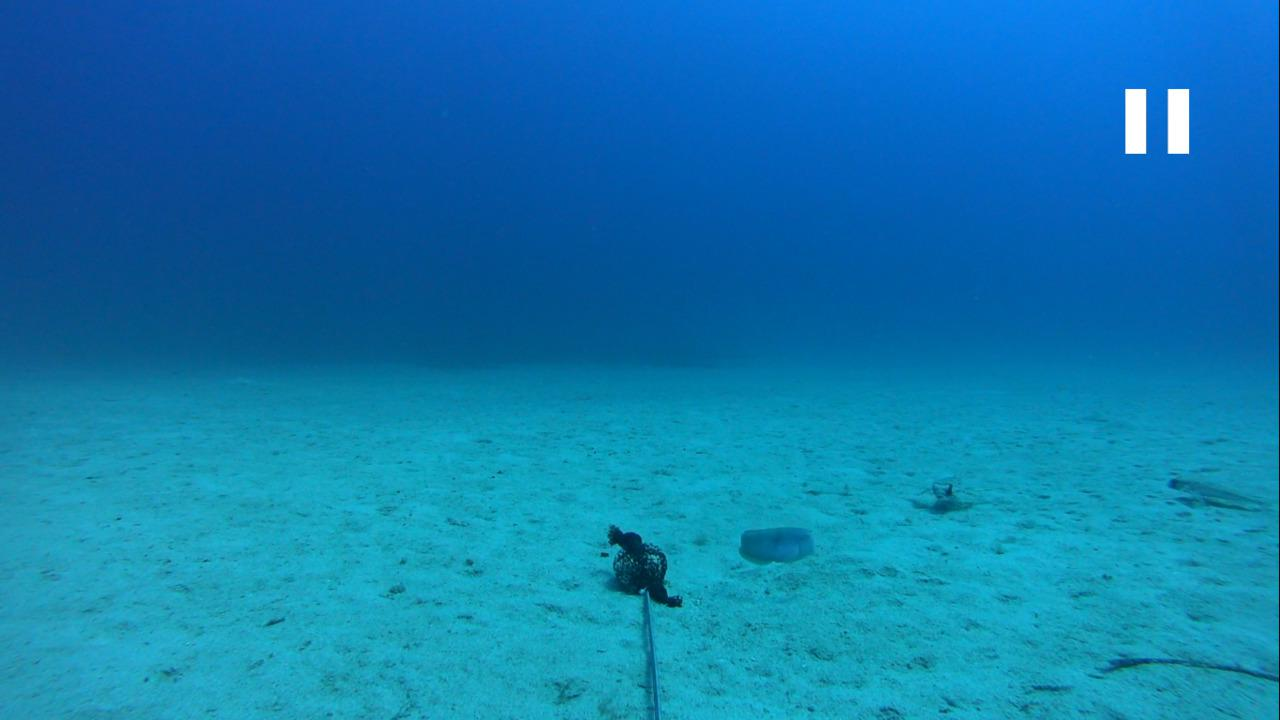dactylopterus: (1155, 470, 1275, 523), (903, 472, 977, 516)
raor: (731, 521, 814, 568)
